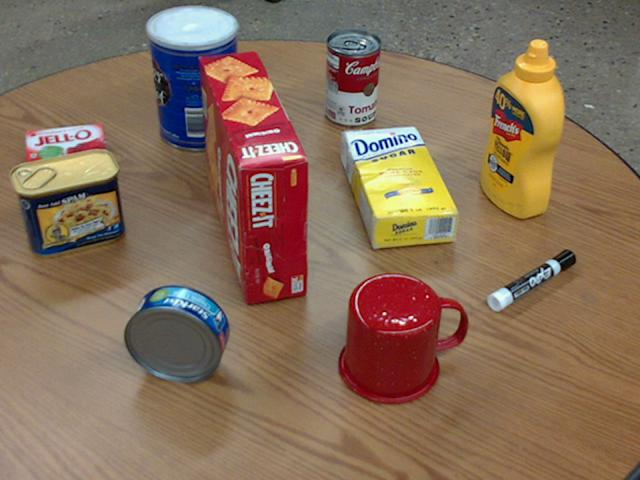cracker_box: (196, 51, 307, 302)
gelatin_box: (24, 122, 106, 179)
large_marker: (487, 250, 575, 311)
master_chef_can: (146, 5, 238, 150)
mug: (338, 272, 466, 403)
mustard_bottle: (480, 41, 563, 218)
potted_meat_can: (9, 147, 122, 254)
sugar_box: (341, 127, 457, 247)
tomato_soup_can: (324, 29, 380, 125)
tuna_fish_can: (124, 285, 229, 381)
